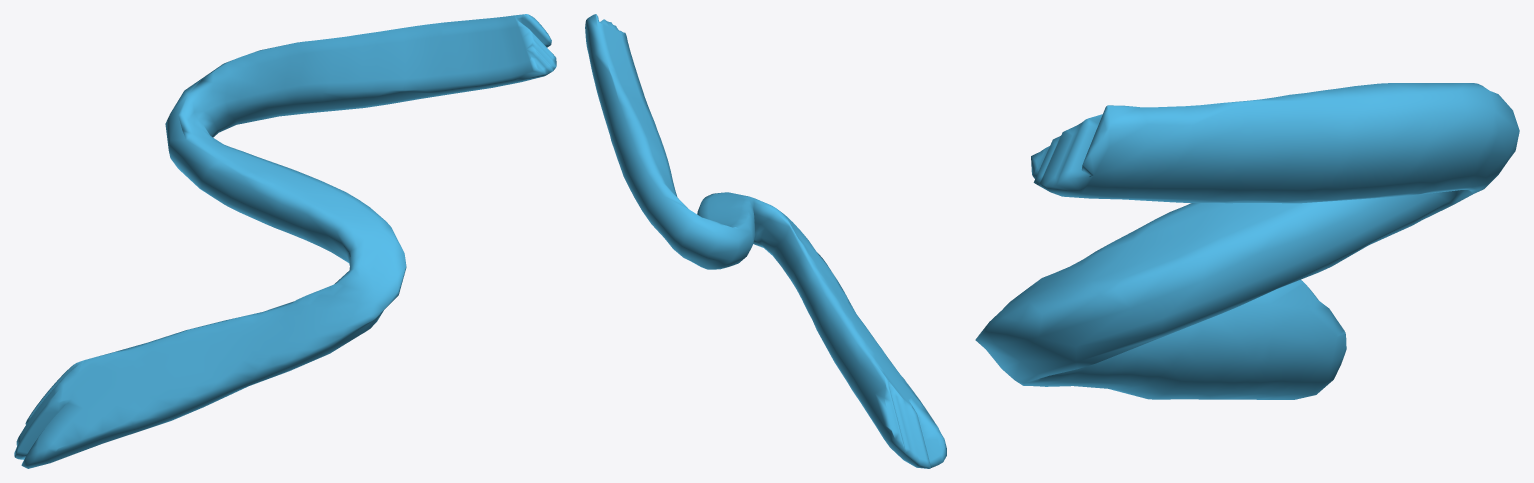
3 renders of one model, left to right at view 1: azimuth 30°, elevation 25°; view 2: azimuth 150°, elevation 25°; view 3: azimuth 270°, elevation 25°, orthographic. The views are drawn at different scales.
Parts seen in each view (by area): view 1: river; view 2: river; view 3: river.
Part boxes in pixels (left/top/right/bottom): river: left=14, top=14, right=556, bottom=468; river: left=585, top=14, right=946, bottom=468; river: left=975, top=83, right=1519, bottom=399.
Bounding box in the file's own units: 9.26 × 7.14 × 5.39.
